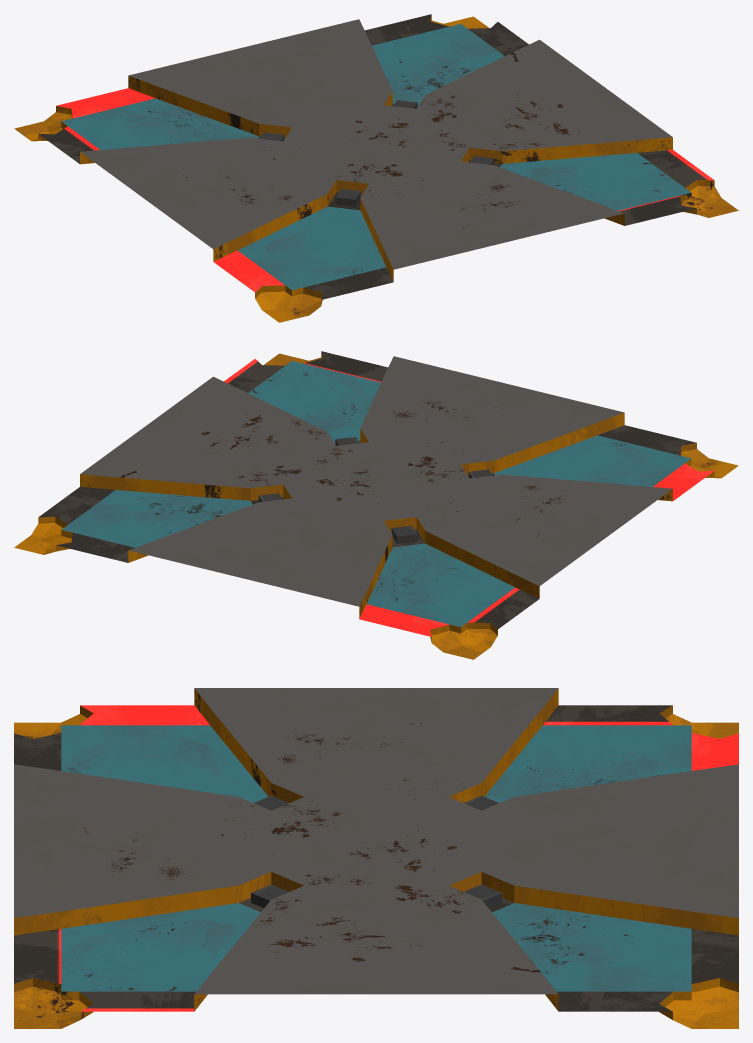
File: Roof_modular_1.fbx
3 views of the same model, one above another, from view 1: azimuth 30°, elevation 25°; view 2: azimuth 150°, elevation 25°; view 3: azimuth 270°, elevation 25° (orthographic). The views are drawn at different scales.
Parts seen in each view (by area): view 1: Plane.010; view 2: Plane.010; view 3: Plane.010.
Part boxes in pixels (left/top/right/bottom): Plane.010: left=14, top=14, right=738, bottom=322; Plane.010: left=14, top=351, right=738, bottom=659; Plane.010: left=14, top=688, right=738, bottom=1028.
Size of the model in its own units: 300 by 15.72 by 300.
